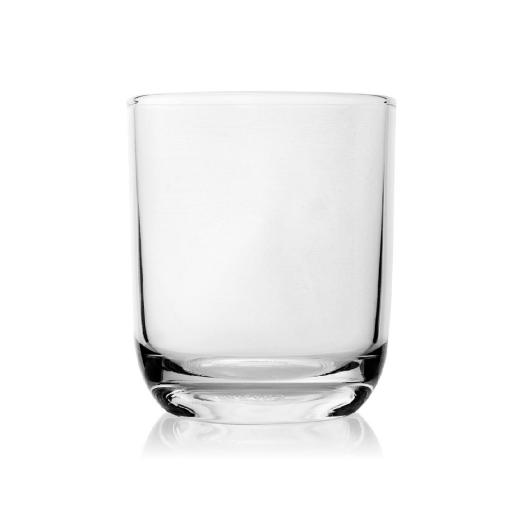cup: (129, 93, 395, 422)
